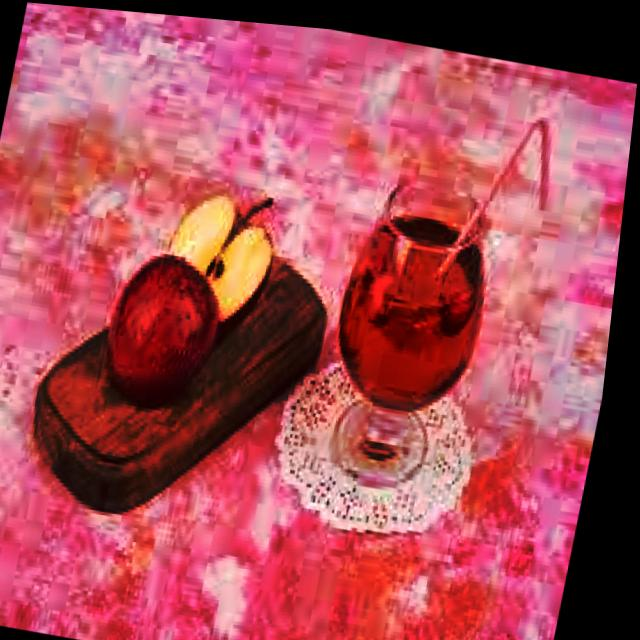drink: (309, 158, 507, 454)
